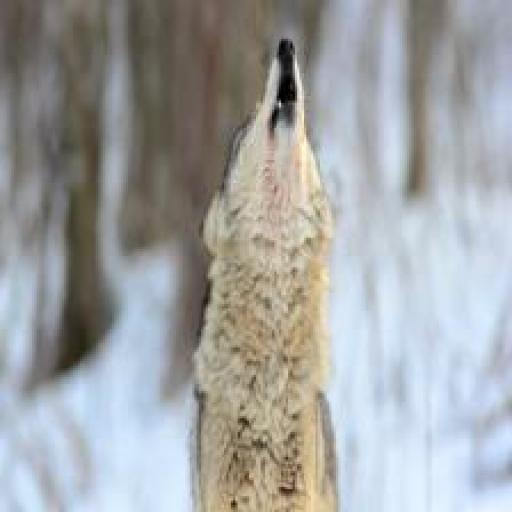wolf: (167, 0, 396, 512)
